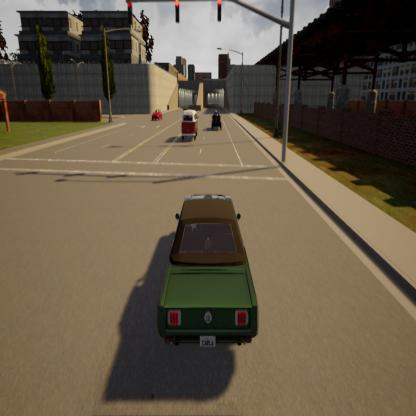Cars: (149, 178, 268, 360), (180, 105, 201, 138), (211, 111, 225, 133), (151, 108, 165, 125)
